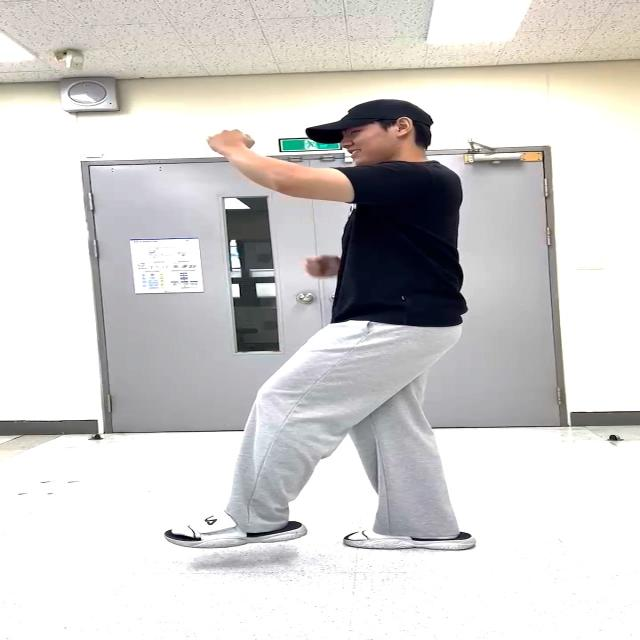leg: (156, 319, 382, 556)
